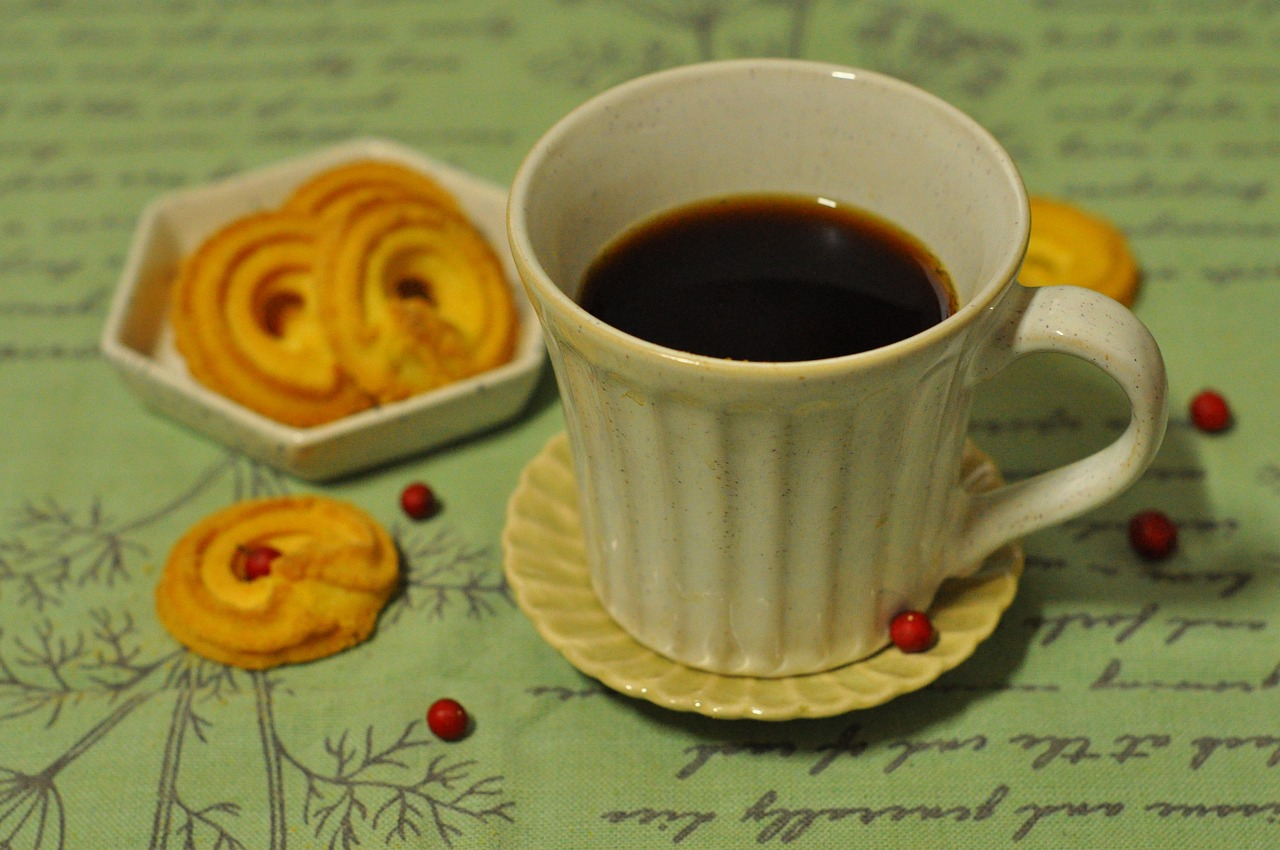mug: (410, 53, 1253, 826)
